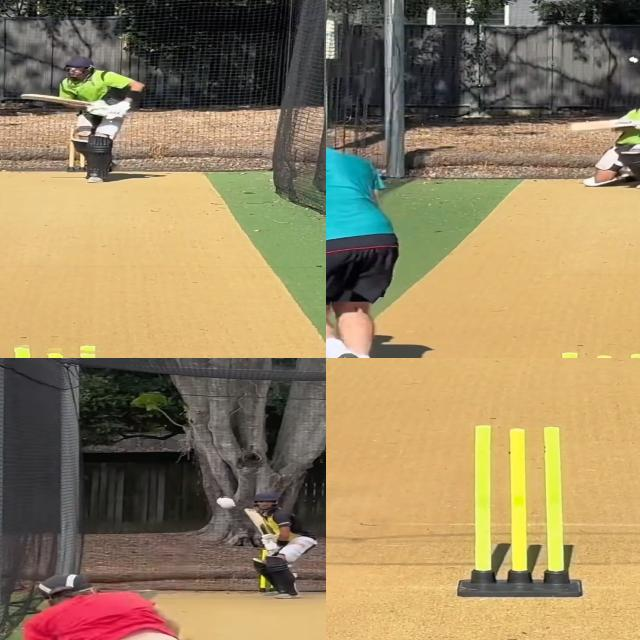Cricket ball: (214, 496, 238, 509), (627, 56, 640, 64)
Stumps: (454, 423, 583, 600)
